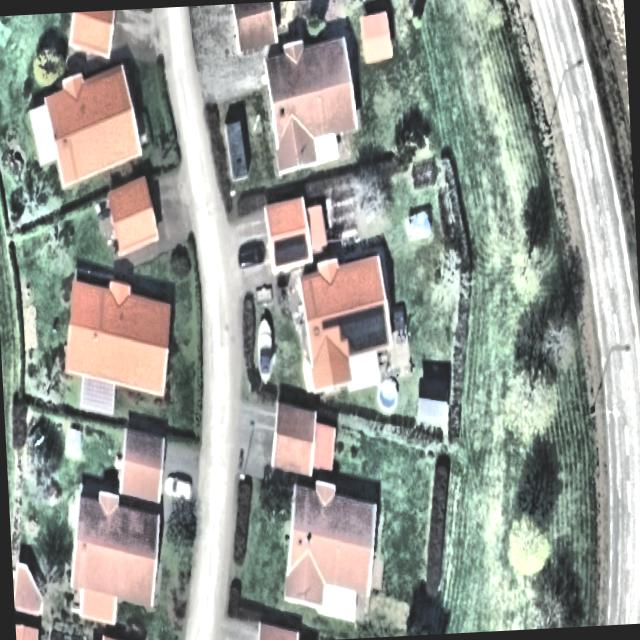roof_pv: (322, 299, 392, 355)
